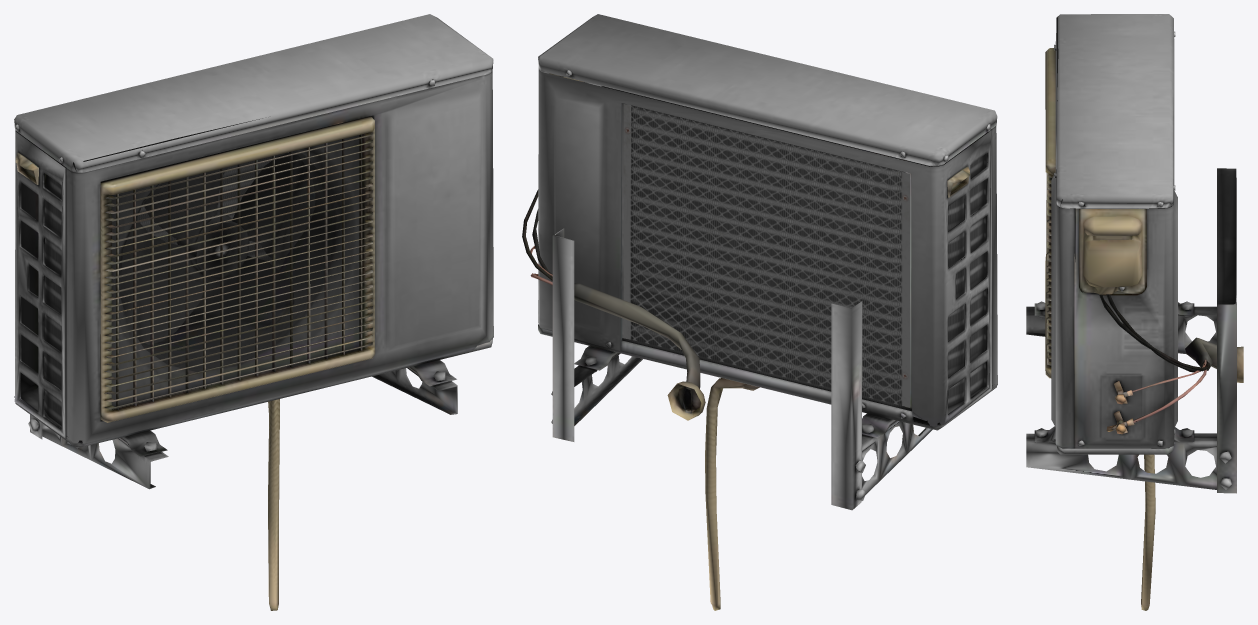
Rendered from aircon.glb.
3 renders of one model, left to right at view 1: azimuth 30°, elevation 25°; view 2: azimuth 150°, elevation 25°; view 3: azimuth 270°, elevation 25°, orthographic. The views are drawn at different scales.
Visible parts, largest first — view 1: exterior_aircon_unit; view 2: exterior_aircon_unit; view 3: exterior_aircon_unit.
Boxes of the visible parts, x1=… form: exterior_aircon_unit: x1=14, y1=14, x2=493, y2=610; exterior_aircon_unit: x1=522, y1=14, x2=997, y2=610; exterior_aircon_unit: x1=1026, y1=14, x2=1243, y2=610.
Size of the model in its own units: 0.7997 by 0.9281 by 0.3742.
2 materials, 2 textured.
